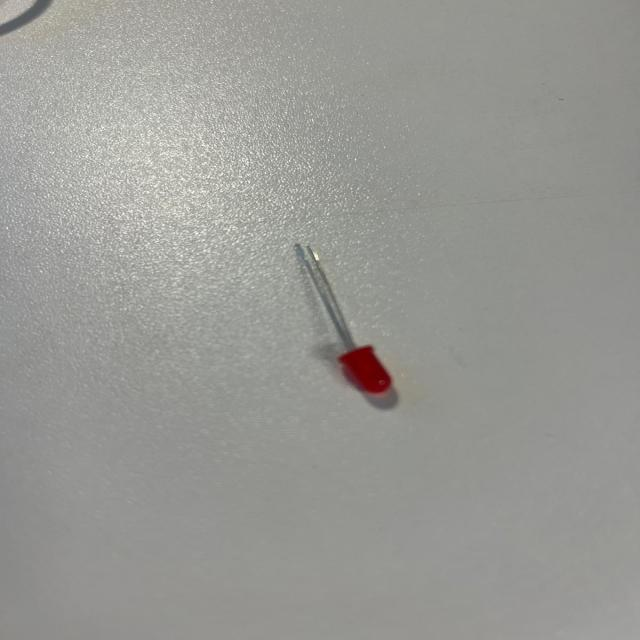REDLed: (292, 231, 433, 429)
